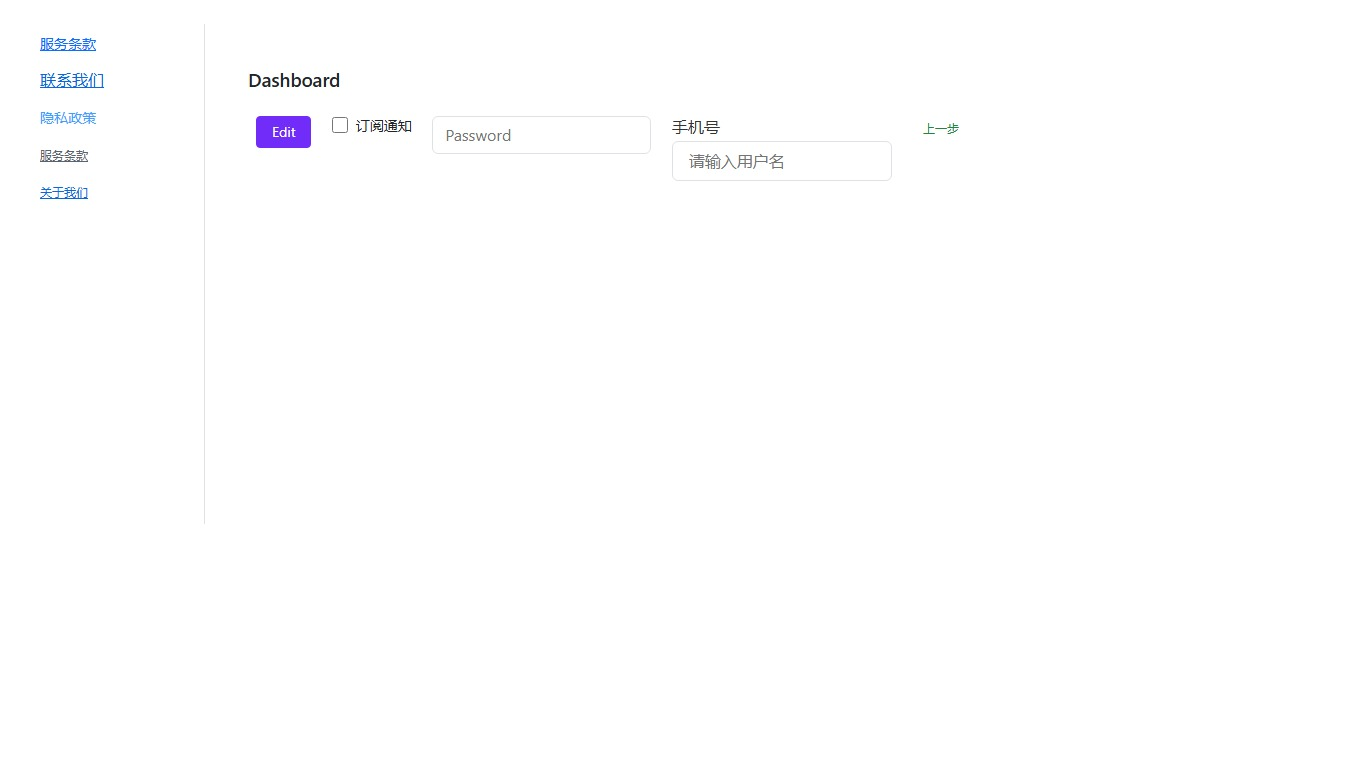button: (256, 116, 311, 148), (912, 117, 970, 139)
checkbox: (332, 117, 348, 133)
icon: (356, 116, 412, 135)
input: (672, 141, 892, 181), (432, 116, 651, 154)
link: (40, 69, 104, 90), (40, 34, 96, 53), (40, 108, 96, 127), (40, 147, 88, 163), (40, 184, 88, 200)
radio: (332, 116, 412, 135)
